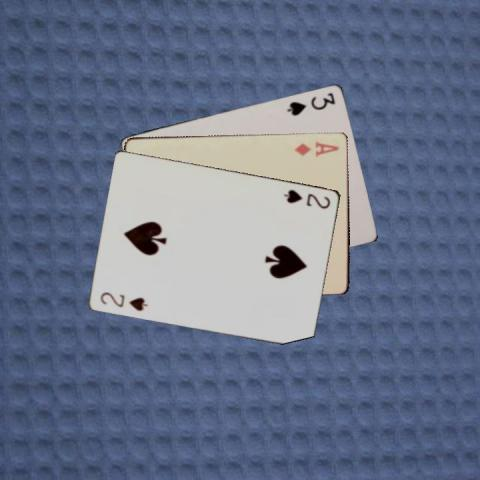2s: (281, 186, 332, 210), (97, 289, 149, 312)
3s: (284, 89, 336, 117)
Ad: (291, 138, 341, 157)
